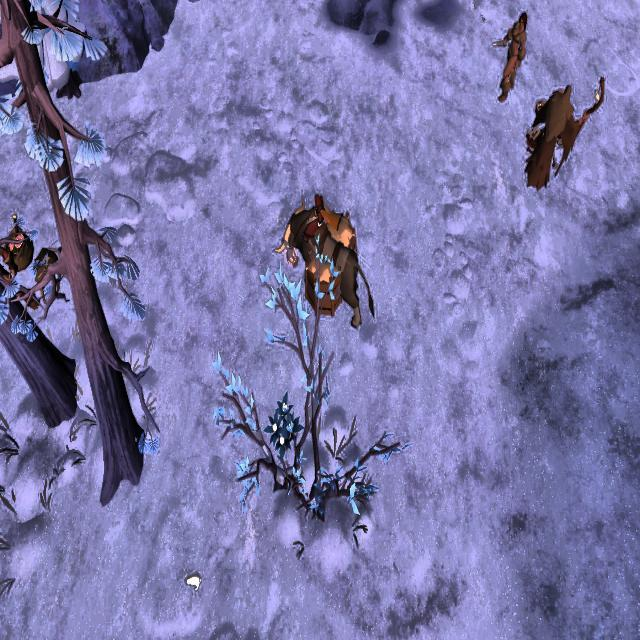enemy_factionKeeper: (524, 84, 604, 200), (500, 11, 526, 110)
fiber_t4: (263, 391, 299, 456)
